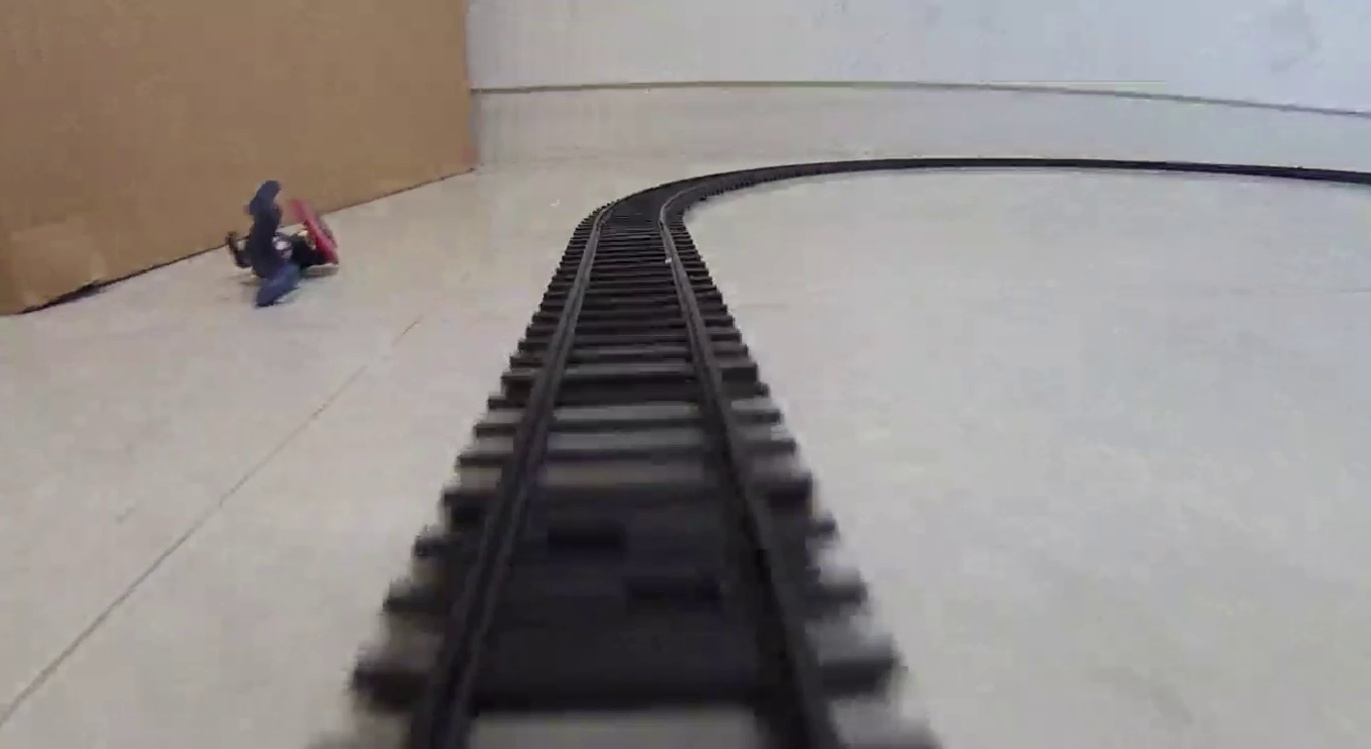people: (228, 182, 338, 309)
